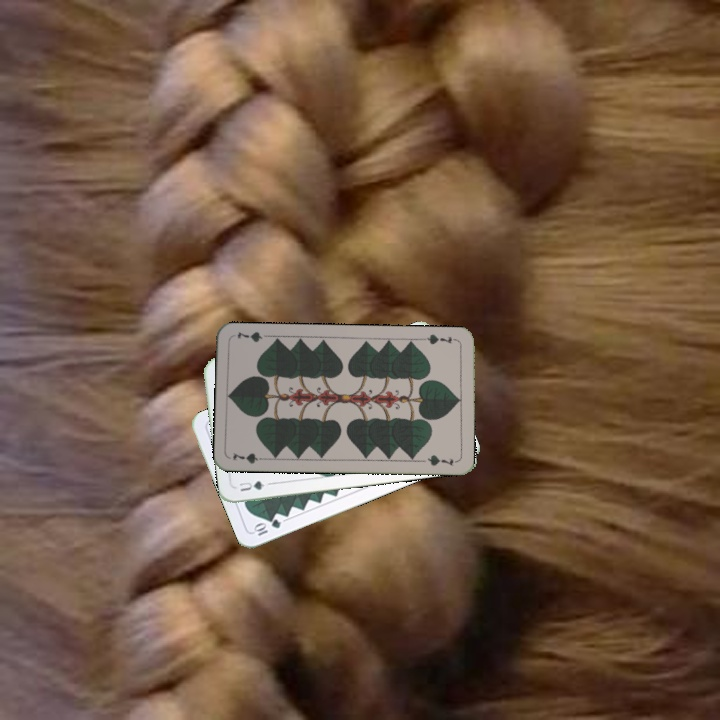G10: (249, 515, 283, 538)
G7: (419, 330, 460, 347), (229, 449, 269, 466)
GU: (235, 476, 273, 494)
